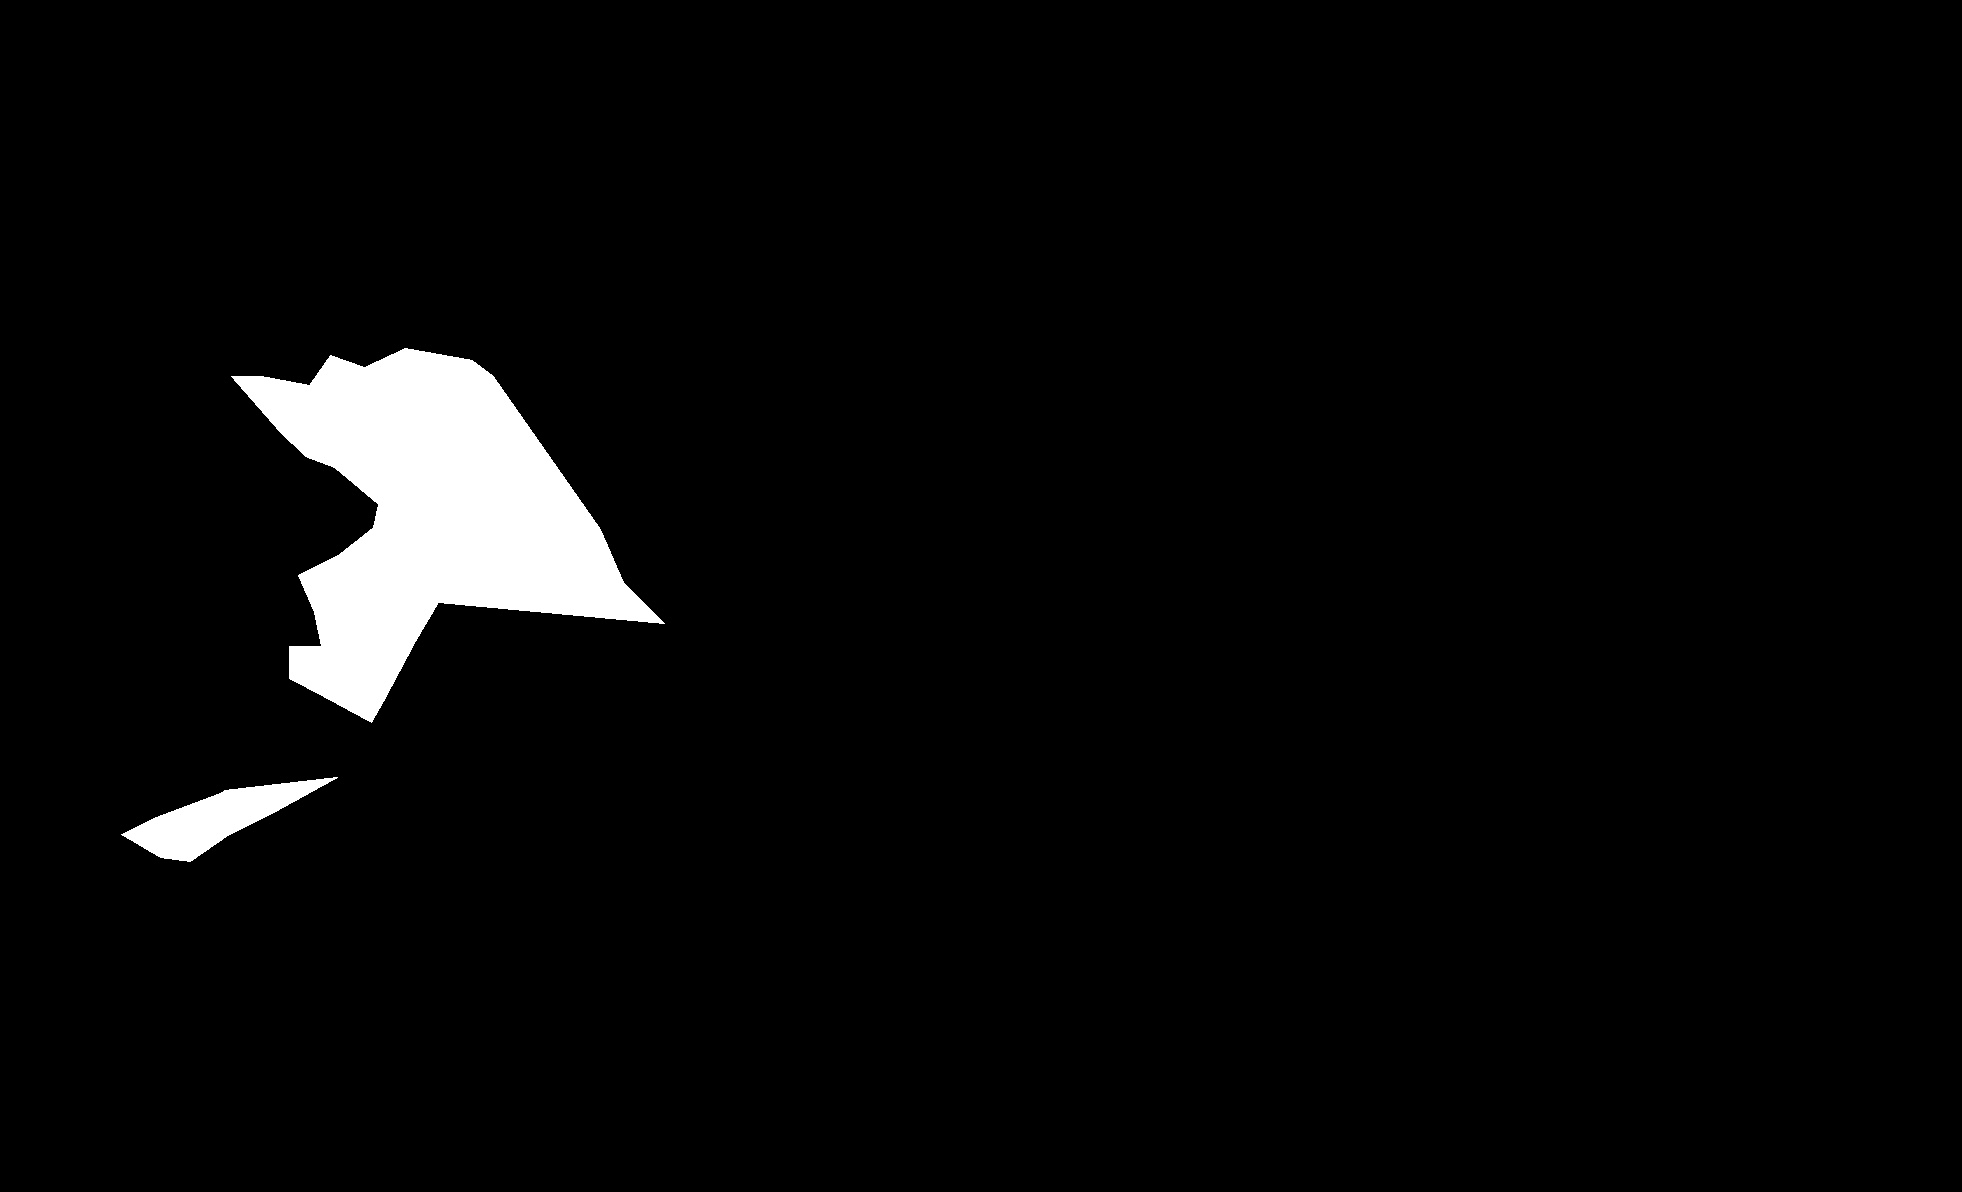Fire: (291, 235, 469, 691), (123, 735, 384, 868)
